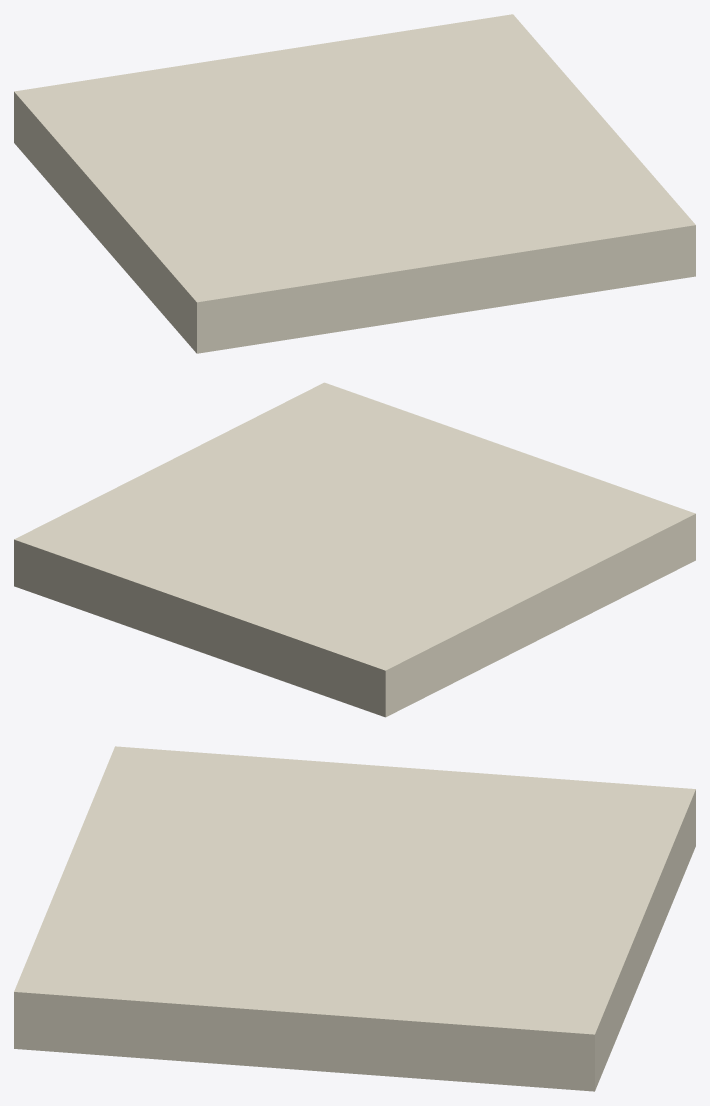
Rendered from camino_14_lev1.glb.
3 views of the same model, one above another, from view 1: azimuth 30°, elevation 25°; view 2: azimuth 150°, elevation 25°; view 3: azimuth 270°, elevation 25° (orthographic). The views are drawn at different scales.
Visible parts, largest first — view 1: camino_14_lev1; view 2: camino_14_lev1; view 3: camino_14_lev1.
Boxes of the visible parts, bbox=[...] form: camino_14_lev1: bbox=[14, 14, 695, 353]; camino_14_lev1: bbox=[14, 382, 695, 717]; camino_14_lev1: bbox=[14, 746, 695, 1091].
Size of the model in its own units: 1.73 by 0.16 by 1.73.
